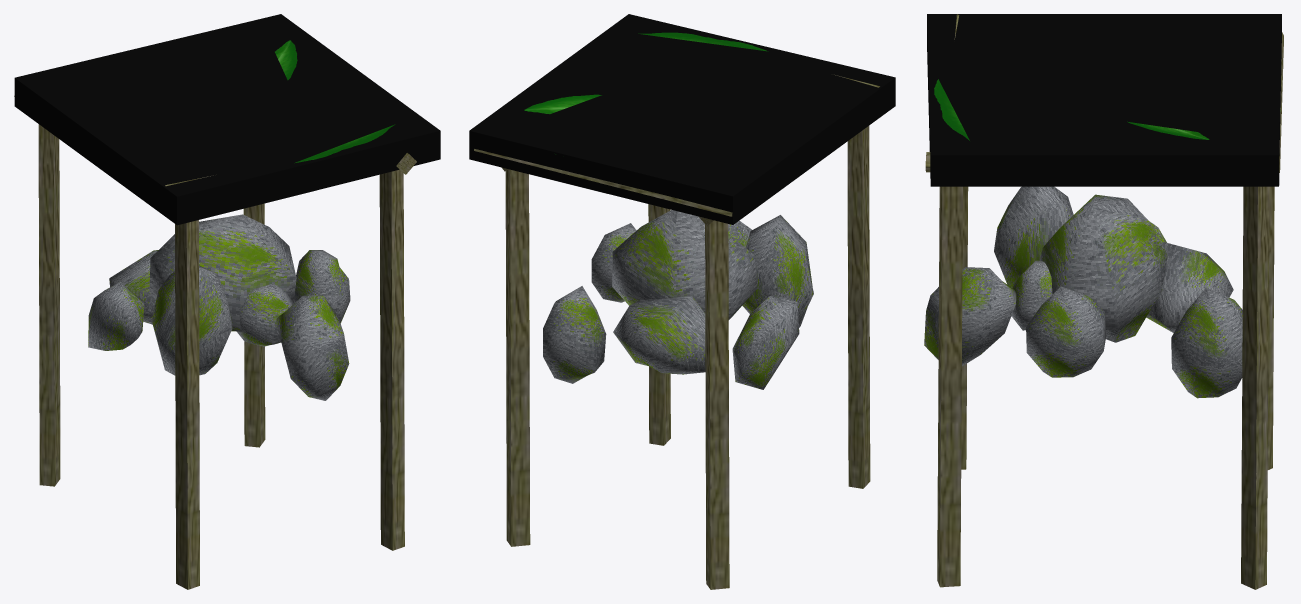
The model's file is stonestorage.obj.
The picture shows the model from 3 angles, left to right: view 1: azimuth 30°, elevation 25°; view 2: azimuth 150°, elevation 25°; view 3: azimuth 270°, elevation 25°; orthographic projection. The views are drawn at different scales.
Parts seen in each view (by area): view 1: Box01, Duplicate00, Duplicate02, Sphere02, Duplicate06, Duplicate03, Duplicate07, Duplicate04, Duplicate01, Duplicate11, Duplicate12; view 2: Box01, Duplicate00, Duplicate03, Sphere02, Duplicate02, Duplicate01, Duplicate05, Duplicate07, Duplicate04, Duplicate06, Duplicate11, Duplicate12; view 3: Box01, Duplicate02, Duplicate03, Sphere02, Duplicate05, Duplicate04, Duplicate06, Duplicate01, Duplicate00, Duplicate11.
Boxes of the visible parts, x1,y1,x2,y2 form: Box01: (14, 14, 440, 225); Duplicate00: (38, 124, 199, 589); Duplicate02: (151, 170, 404, 550); Sphere02: (149, 214, 296, 331); Duplicate06: (14, 96, 349, 400); Duplicate03: (236, 203, 293, 447); Duplicate07: (88, 175, 213, 350); Duplicate04: (294, 250, 350, 323); Duplicate01: (109, 250, 158, 324); Duplicate11: (294, 124, 395, 163); Duplicate12: (275, 40, 297, 80); Box01: (469, 14, 895, 224); Duplicate00: (705, 126, 870, 589); Duplicate03: (505, 169, 530, 546); Sphere02: (612, 210, 757, 319); Duplicate02: (648, 204, 813, 445); Duplicate01: (613, 296, 705, 374); Duplicate05: (501, 167, 606, 383); Duplicate07: (732, 74, 879, 389); Duplicate04: (591, 216, 713, 302); Duplicate06: (474, 149, 751, 247); Duplicate11: (638, 32, 768, 51); Duplicate12: (524, 94, 601, 114); Box01: (927, 14, 1281, 186); Duplicate02: (937, 186, 1073, 587); Duplicate03: (1011, 186, 1269, 589); Sphere02: (1040, 194, 1167, 342); Duplicate05: (925, 152, 1242, 398); Duplicate04: (1026, 286, 1106, 377); Duplicate06: (924, 32, 1283, 366); Duplicate01: (1146, 242, 1233, 332); Duplicate00: (961, 186, 1274, 469); Duplicate11: (934, 79, 969, 140).
Bounding box in the file's own units: 42.23 × 63.54 × 45.8.
